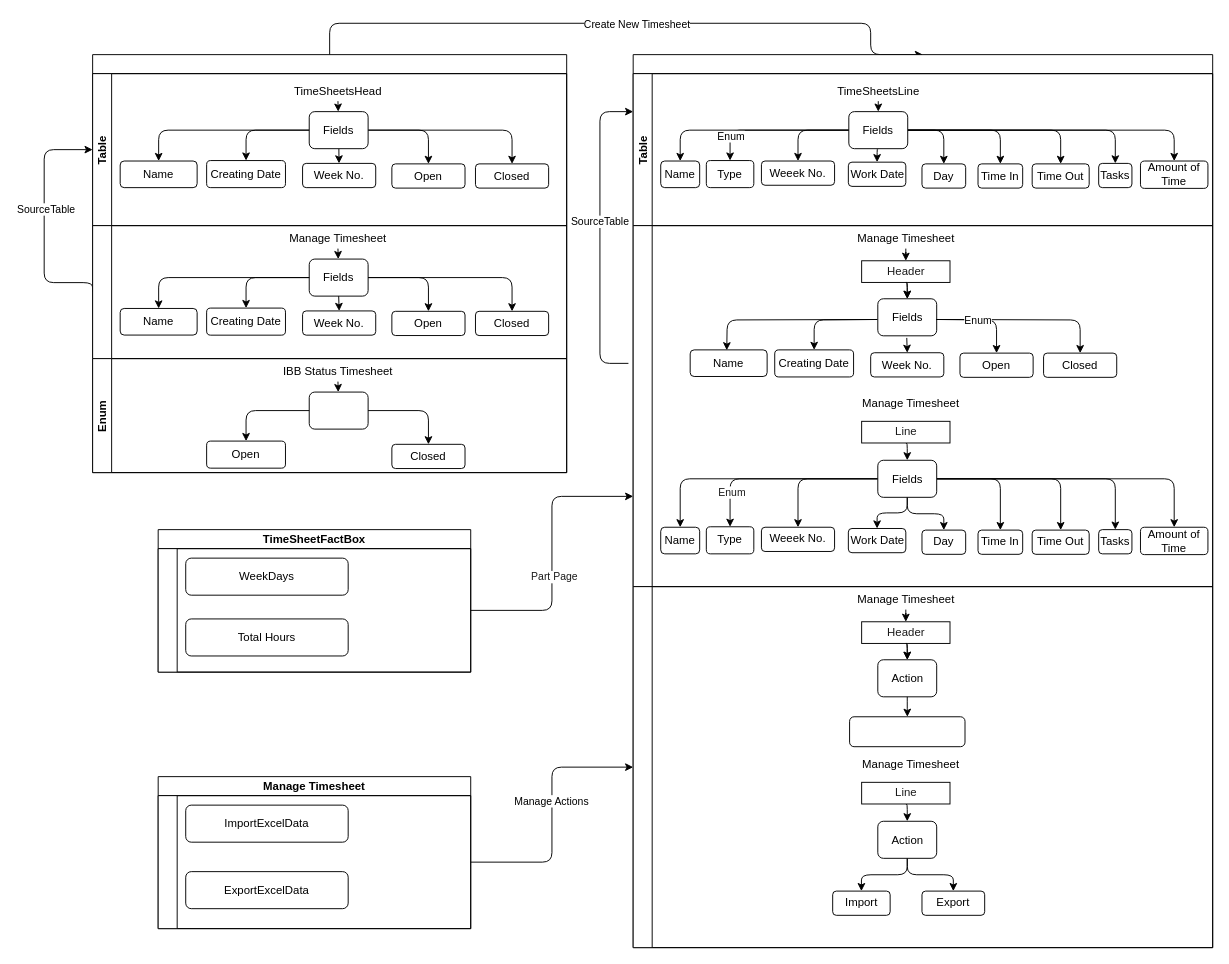
Some shapes in this 1229 by 964 pixel diagram are drawn without their labels. The box of each missing label's shape, as (x1, y1, x2, y2) in pixels:
Actions: (632, 586, 1213, 948)
Card Page: (632, 225, 1213, 587)
Codeunite: (157, 795, 471, 929)
FactBox: (157, 548, 471, 672)
IBB Innovations Timesheet: (92, 54, 567, 473)
IBB Innovations Users Timesheet: (632, 54, 1213, 948)
Page: (92, 225, 567, 359)
Submit Timesheet: (849, 716, 965, 747)
Value: (308, 391, 368, 429)
